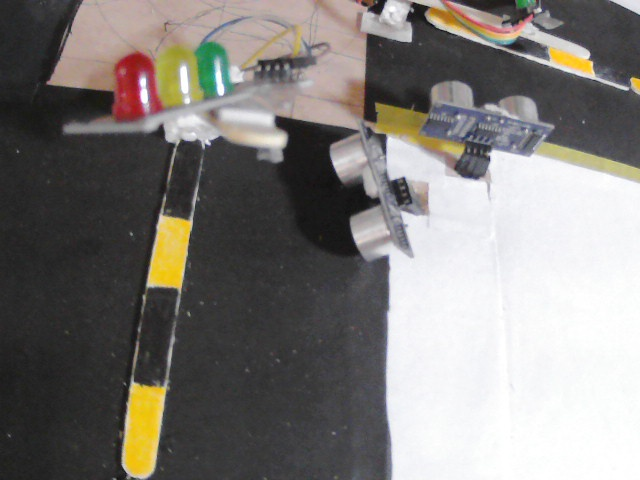black_strip: (133, 288, 182, 378), (160, 138, 198, 210), (497, 33, 548, 60), (588, 66, 628, 87)
mixed_lane: (121, 114, 206, 480), (425, 9, 640, 91)
traffic_light: (94, 39, 246, 117)
uno_breadboard: (330, 123, 419, 264), (420, 80, 548, 172)
yellow_strip: (150, 213, 186, 291), (126, 384, 157, 474), (428, 9, 488, 42), (548, 45, 594, 74), (632, 74, 640, 90)
